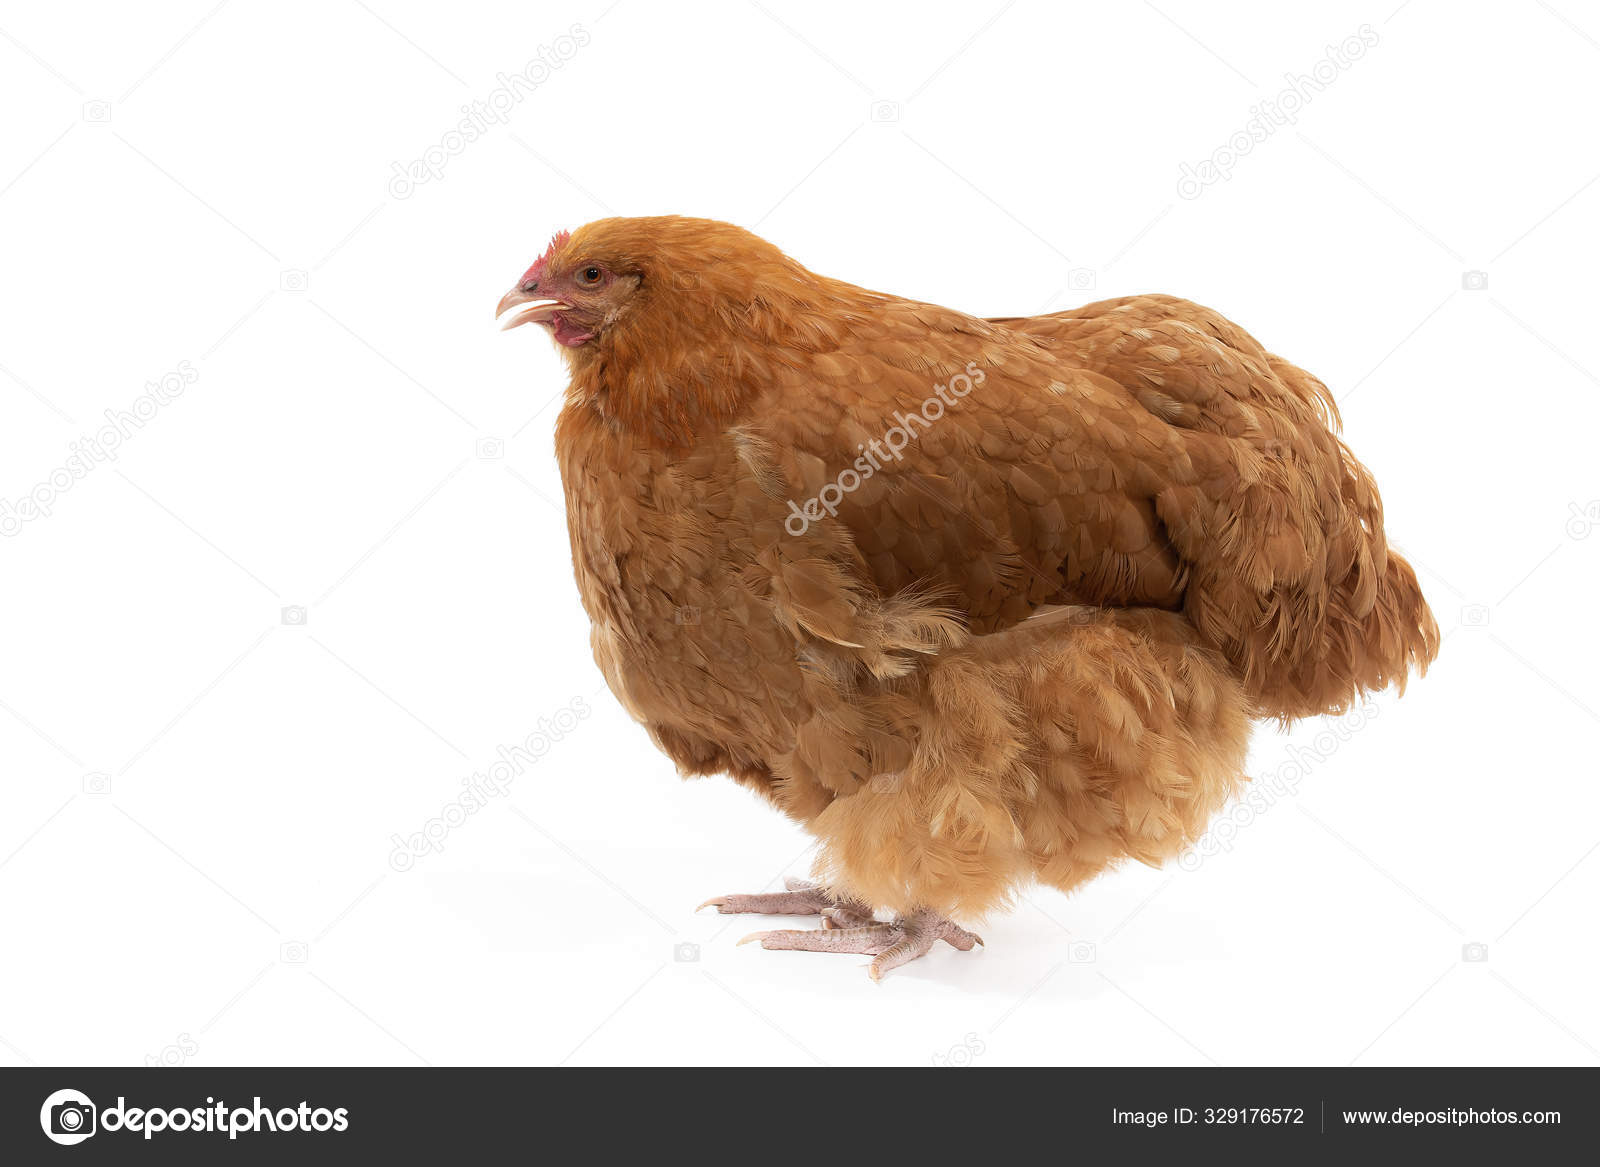buff: (453, 133, 1417, 861)
